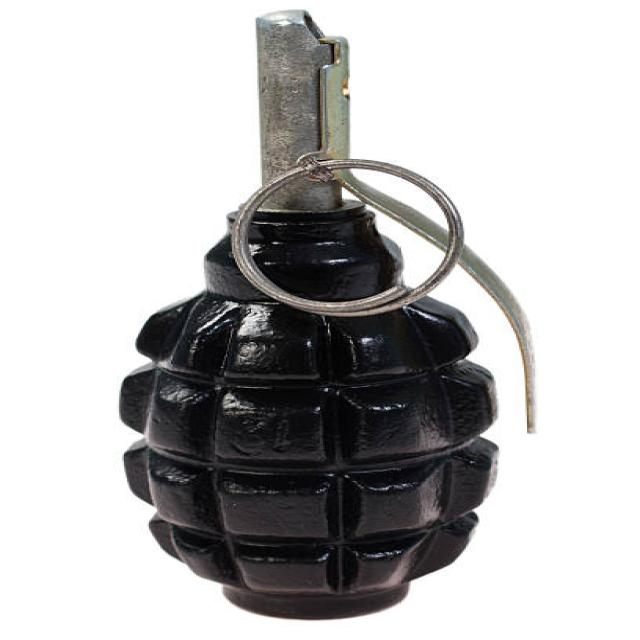grenade: (112, 9, 553, 623)
